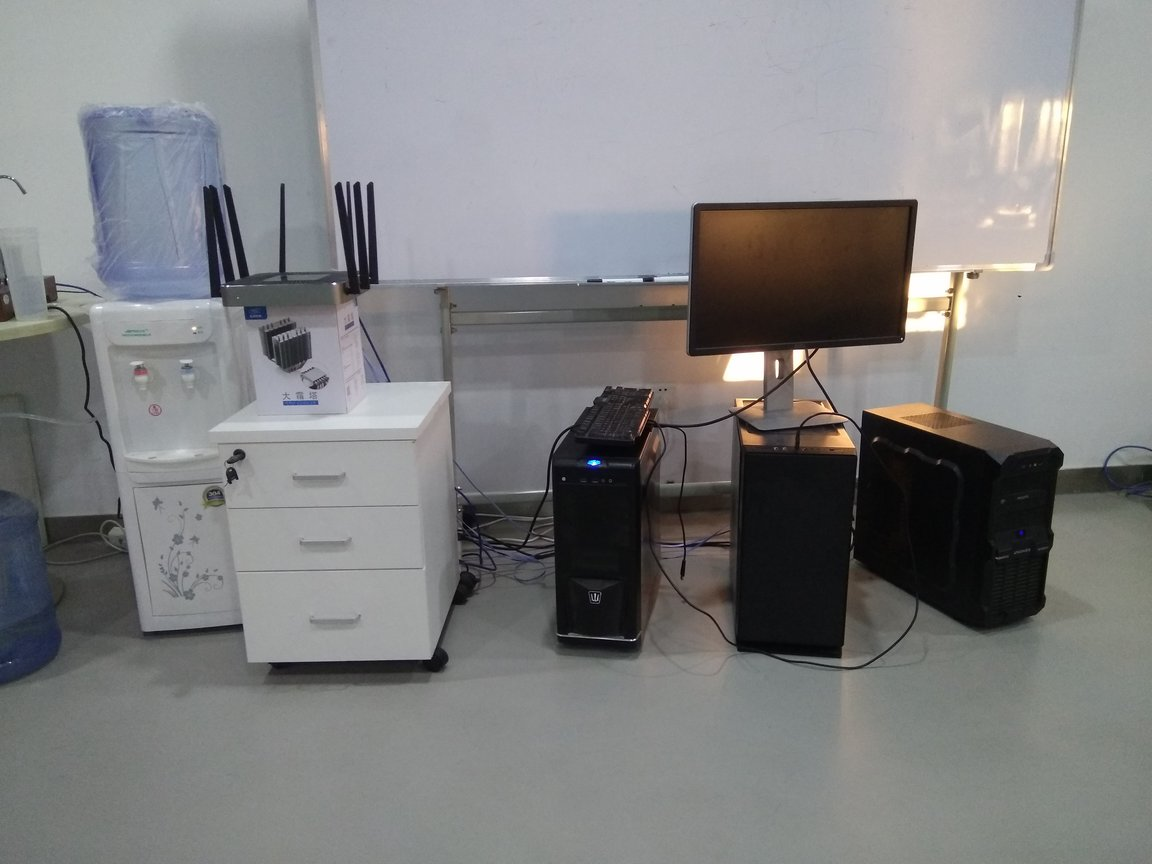computer: (863, 399, 1054, 631), (734, 392, 847, 662), (555, 388, 660, 659)
drawer chest: (220, 382, 481, 688)
monitor: (685, 191, 922, 440)
scuttlebutt: (76, 97, 250, 303), (1, 478, 74, 693)
water dispenser: (82, 287, 260, 641)
